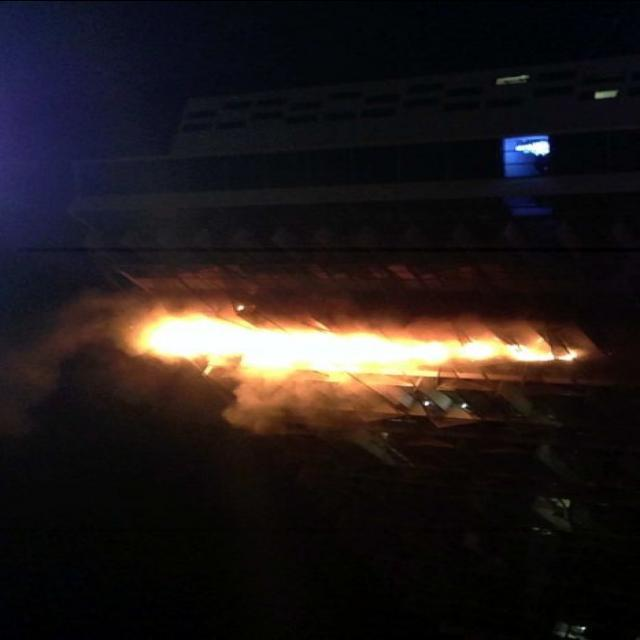Fire: (100, 293, 606, 387)
